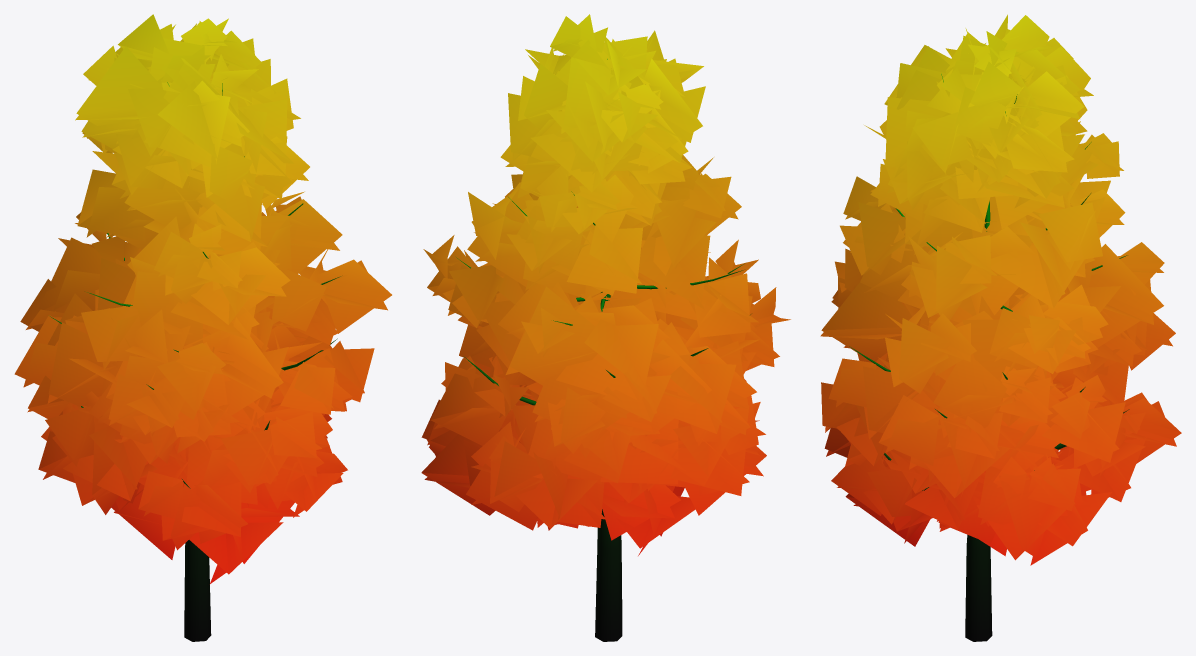
File: medium_tree.obj
3 views of the same model, side by side, from view 1: azimuth 30°, elevation 25°; view 2: azimuth 150°, elevation 25°; view 3: azimuth 270°, elevation 25° (orthographic).
Visible parts, largest first — view 1: MediumTree; view 2: MediumTree; view 3: MediumTree.
Part boxes in pixels (bbox=[...]): MediumTree: bbox=[14, 14, 391, 641]; MediumTree: bbox=[421, 14, 790, 641]; MediumTree: bbox=[820, 14, 1181, 641].
Bounding box in the file's own units: 15.29 × 28.76 × 15.37.
